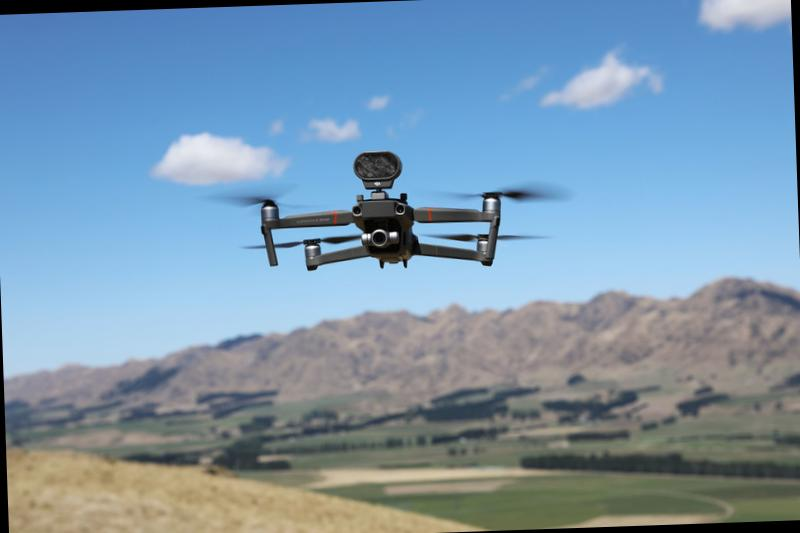drone: (209, 165, 554, 292)
